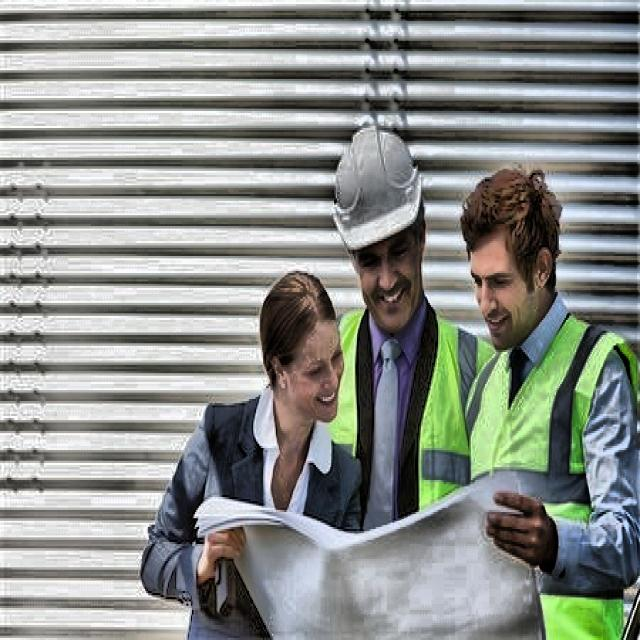safety_helmet: (320, 118, 428, 280)
safety_jacket: (492, 330, 608, 602), (344, 314, 454, 502)
